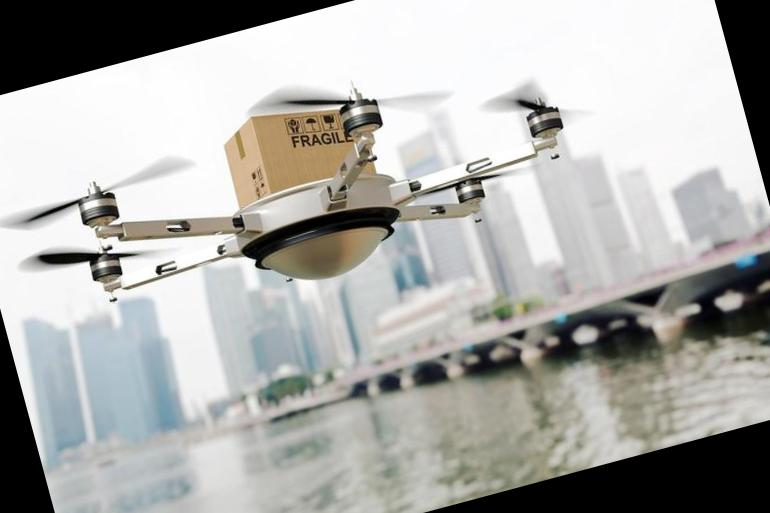drone: (2, 12, 642, 375)
